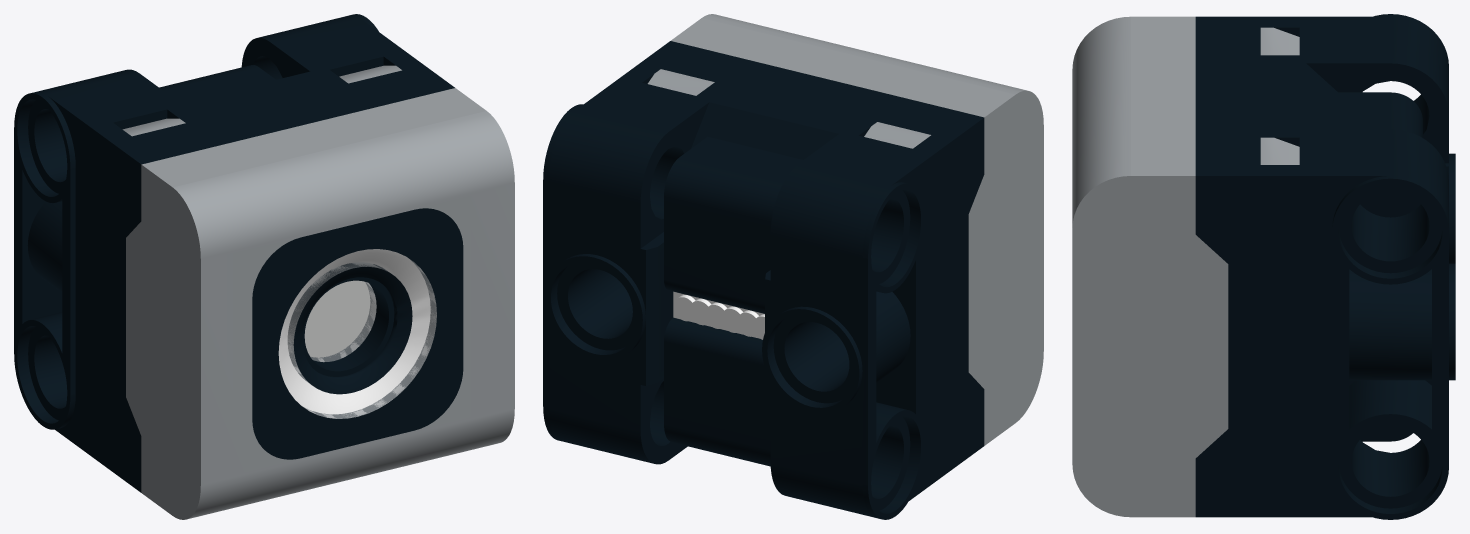
Rendered from SpikePrimeColorSensor.dae.
3 views of the same model, side by side, from view 1: azimuth 30°, elevation 25°; view 2: azimuth 150°, elevation 25°; view 3: azimuth 270°, elevation 25° (orthographic). The views are drawn at different scales.
Visible parts, largest first — view 1: Inner-Node-UntitledModel_dot_io-0; view 2: Inner-Node-UntitledModel_dot_io-0; view 3: Inner-Node-UntitledModel_dot_io-0.
Boxes of the visible parts, x1,y1,x2,y2 form: Inner-Node-UntitledModel_dot_io-0: (14,14,514,519); Inner-Node-UntitledModel_dot_io-0: (543,14,1043,519); Inner-Node-UntitledModel_dot_io-0: (1072,14,1455,519).
Size of the model in its own units: 59.75 by 57.75 by 58.75.
